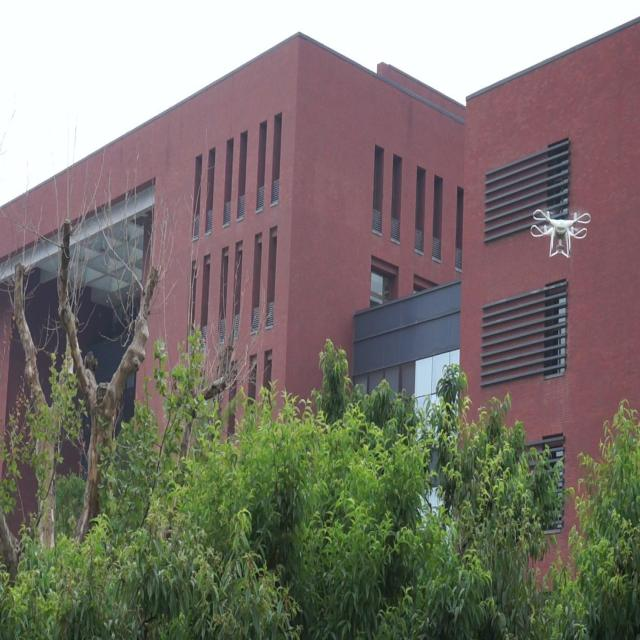drone: (529, 206, 590, 261)
